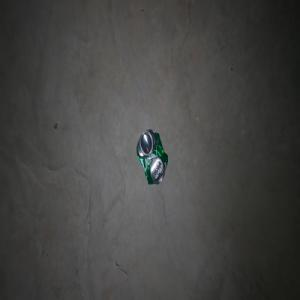SodaCan: (136, 128, 167, 184)
